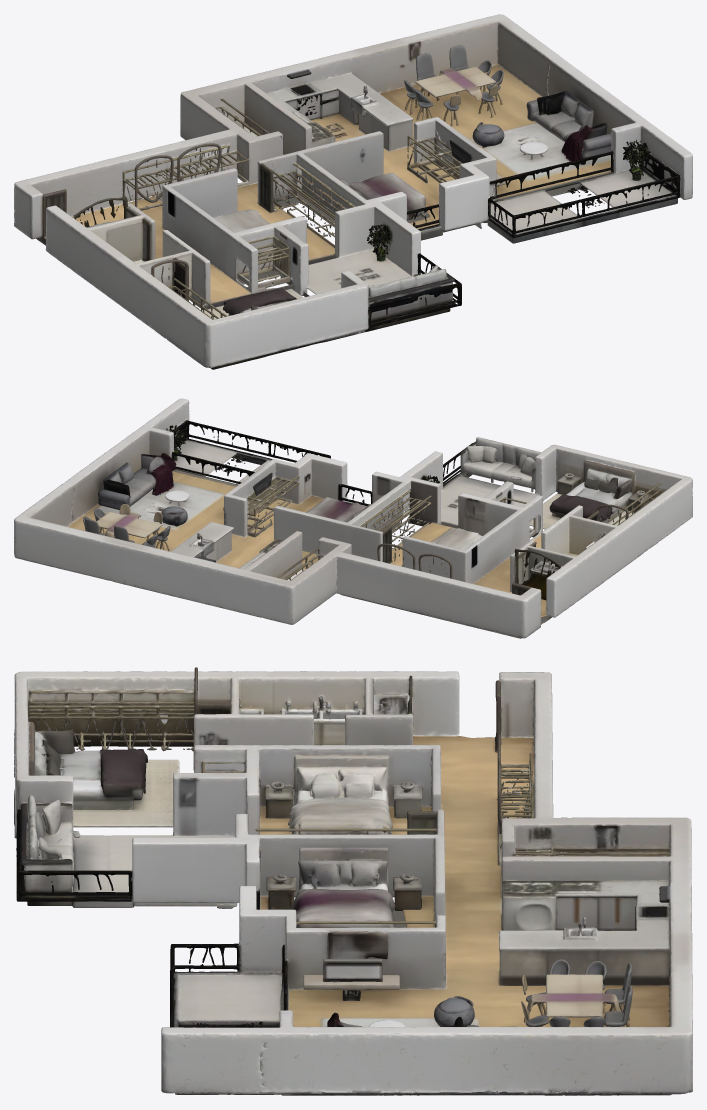
Rendered from trellis_parallel_1.glb.
3 renders of one model, top to bottom at view 1: azimuth 30°, elevation 25°; view 2: azimuth 150°, elevation 25°; view 3: azimuth 270°, elevation 25°, orthographic. The views are drawn at different scales.
Parts seen in each view (by area): view 1: world; view 2: world; view 3: world.
Part boxes in pixels (<box>): world: <box>14,14,692,369</box>; world: <box>14,398,692,638</box>; world: <box>14,667,692,1095</box>.
Bounding box in the file's own units: 1 × 0.1072 × 0.7891.
1 material, 1 textured.
